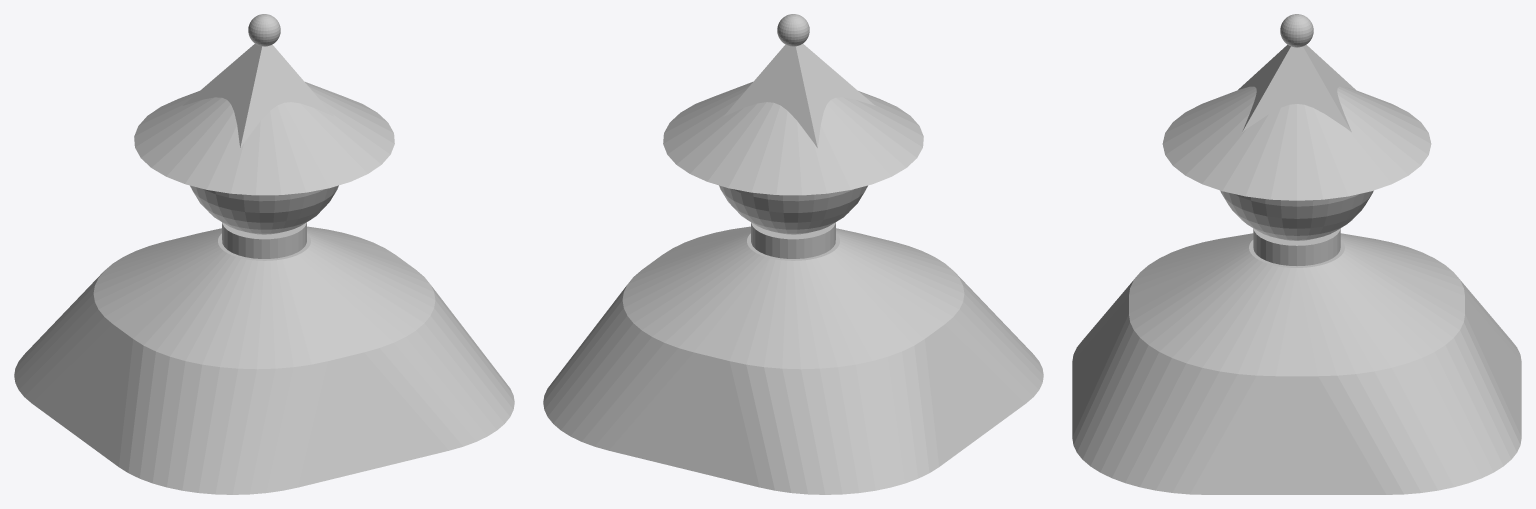
Rendered from Boss.gltf.
3 views of the same model, side by side, from view 1: azimuth 30°, elevation 25°; view 2: azimuth 150°, elevation 25°; view 3: azimuth 270°, elevation 25° (orthographic). The views are drawn at different scales.
Visible parts, largest first — view 1: 球.001; view 2: 球.001; view 3: 球.001.
Part boxes in pixels (bbox=[...]): 球.001: bbox=[14, 14, 514, 494]; 球.001: bbox=[543, 14, 1043, 494]; 球.001: bbox=[1072, 14, 1521, 494].
Bounding box in the file's own units: 16.05 × 15.15 × 16.05.
1 material, 1 textured.
